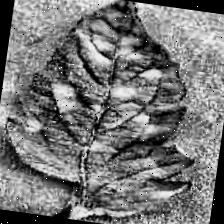leaf mold: (0, 0, 213, 224)
